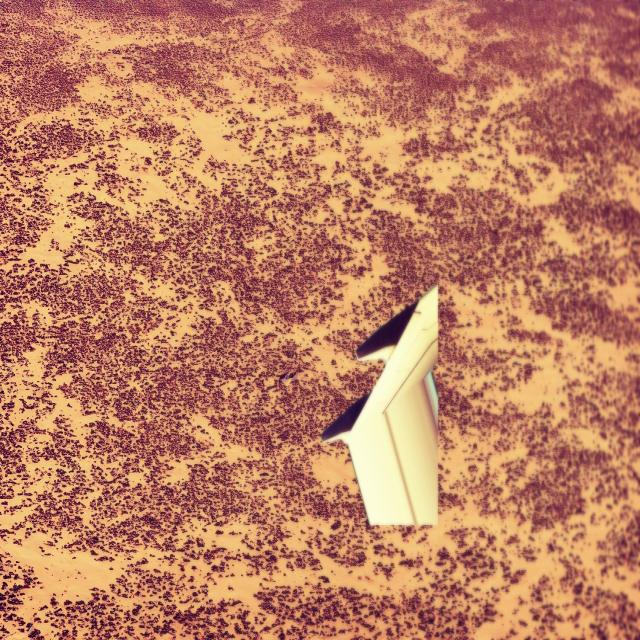airplane: (321, 283, 440, 527)
